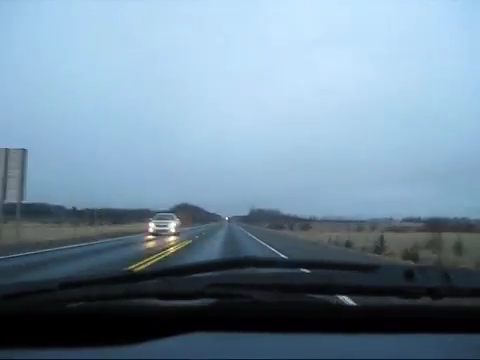car: (148, 213, 181, 235)
